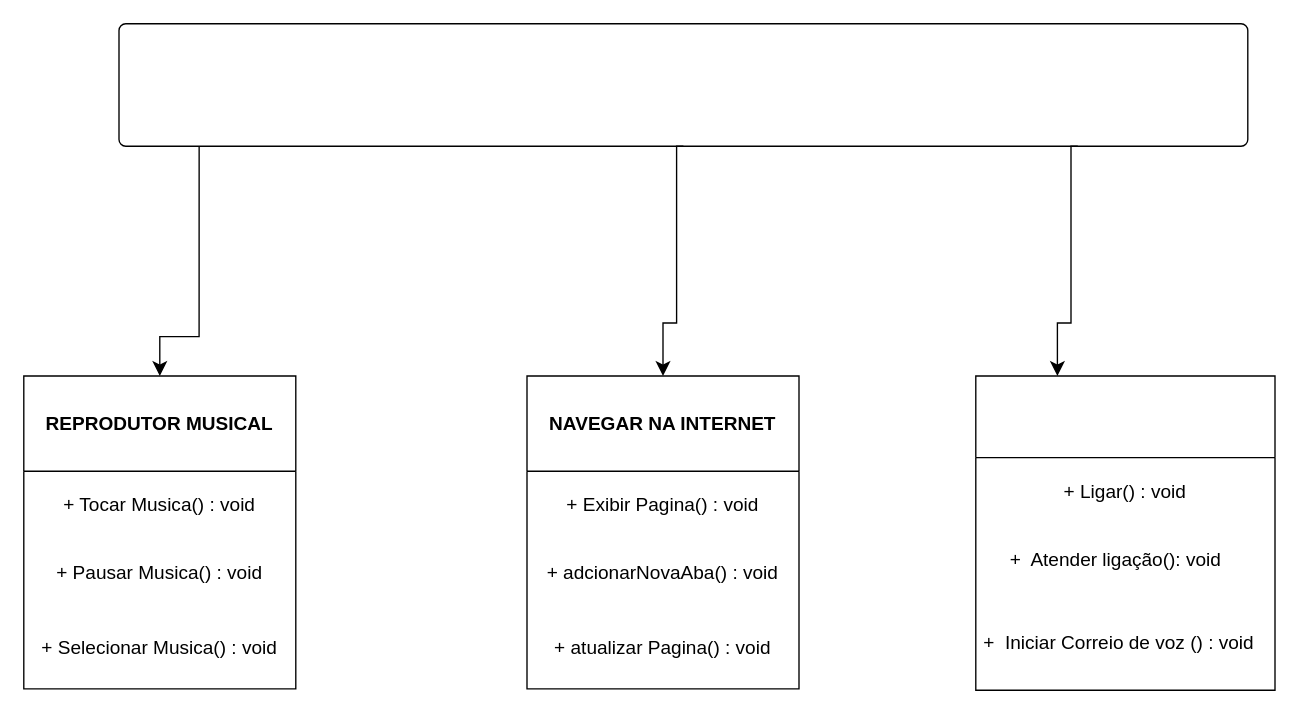
Some shapes in this 1299 by 714 pixel diagram are drawn without their labels. Here are the shapes that lost their labels. From the top down, the box of each, then its label:
(118, 22, 1248, 146): IPHONE
(974, 375, 1275, 690): APARELHO TELEFÔNICO
